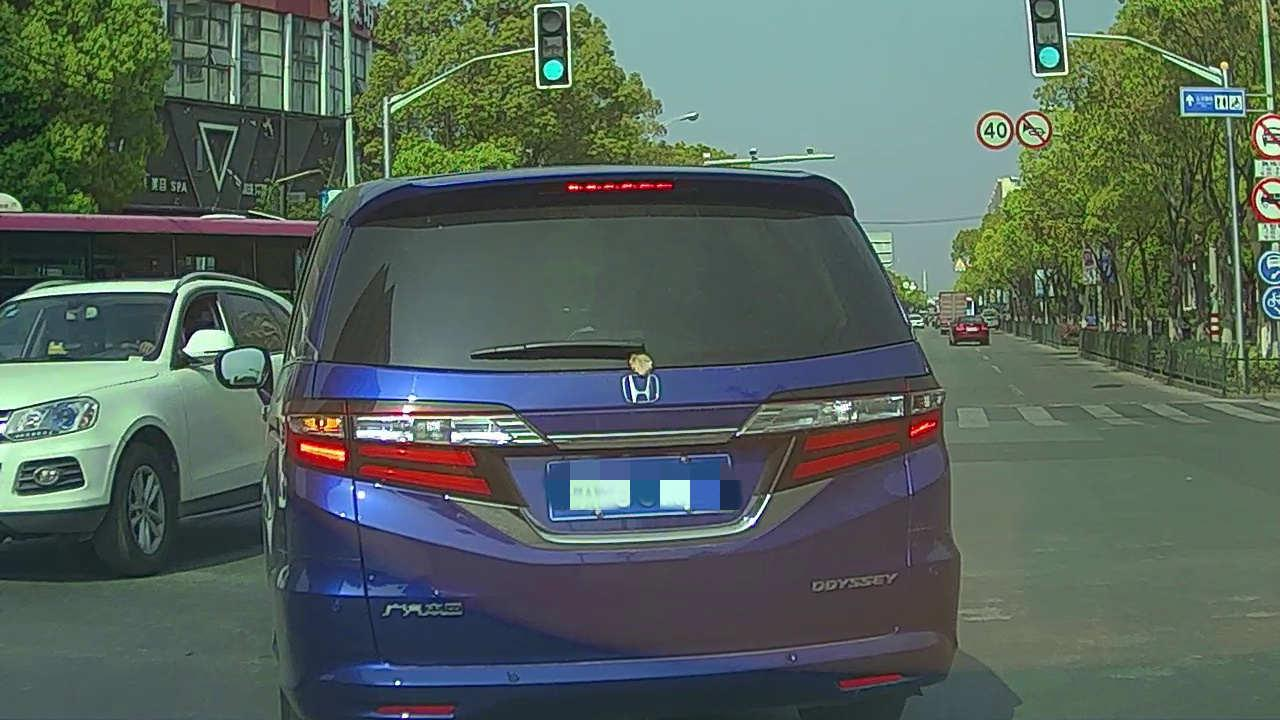traffic_light: (1027, 1, 1067, 74), (536, 7, 568, 86)
